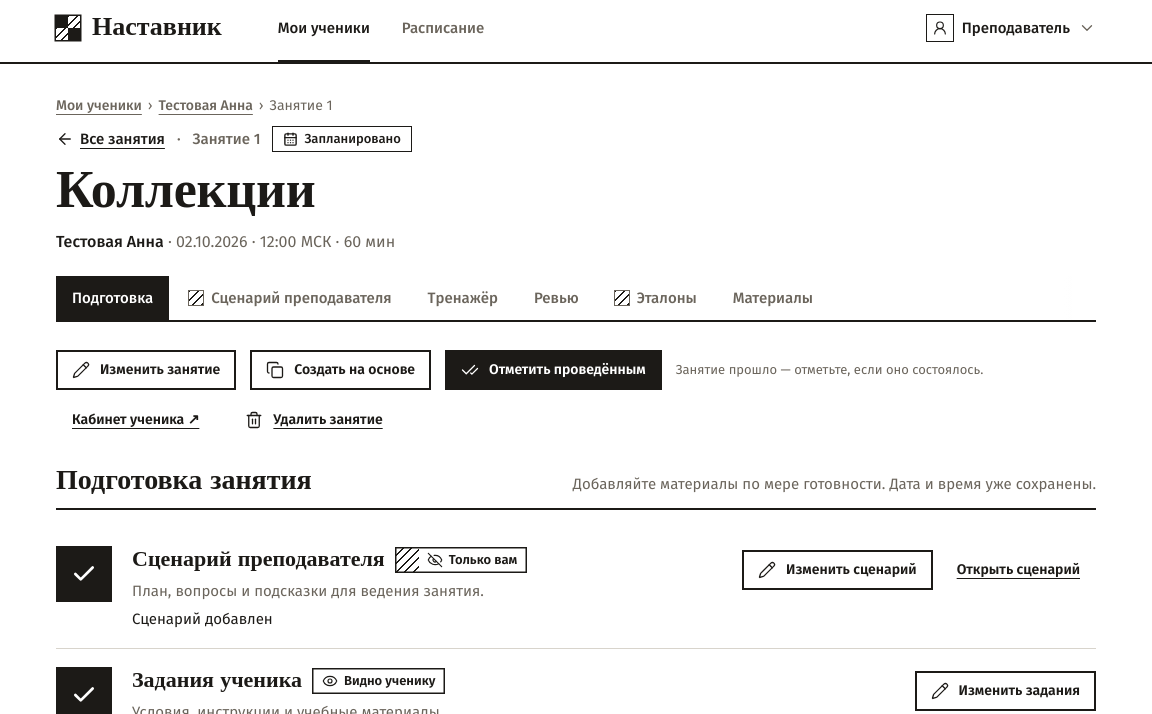
Scenario: Lesson creation and preparation › metadata form excludes all lesson texts and uses the metadata revision
Click the button "Изменить занятие" at point(146, 370), box [56,350,236,390]
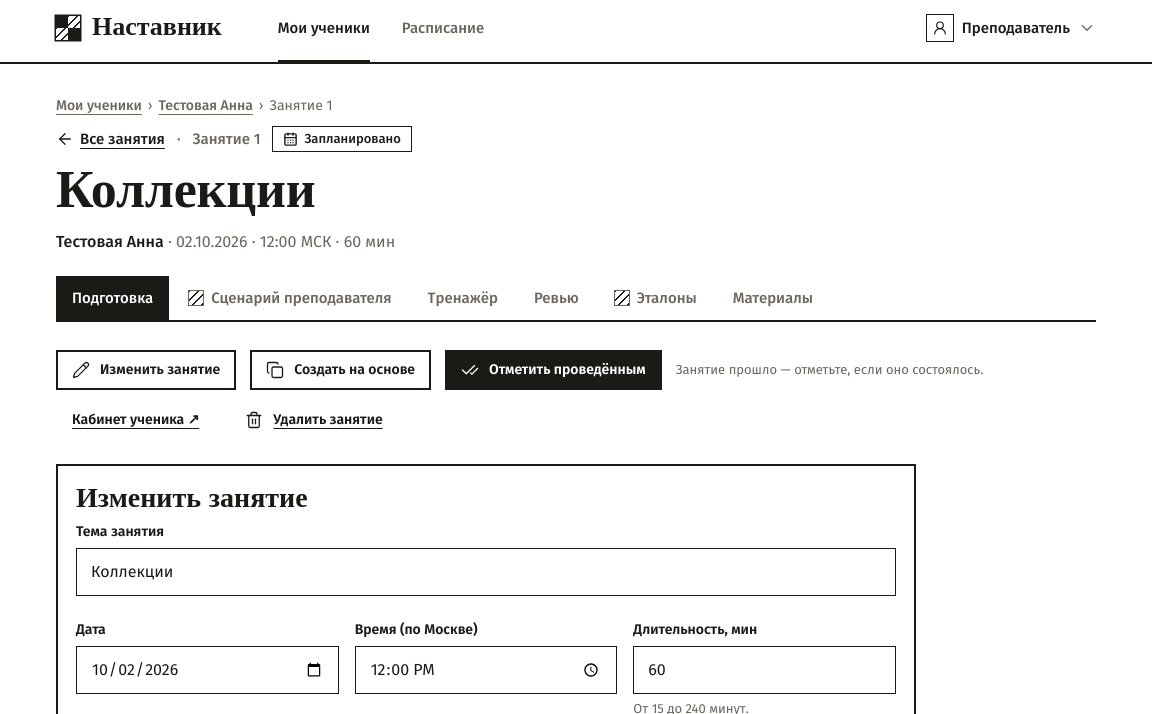
Replace the text in the time field labelled "Время (по Москве)" with "14:30" at point(486, 670), box [355,646,617,694]
(page scrolled)
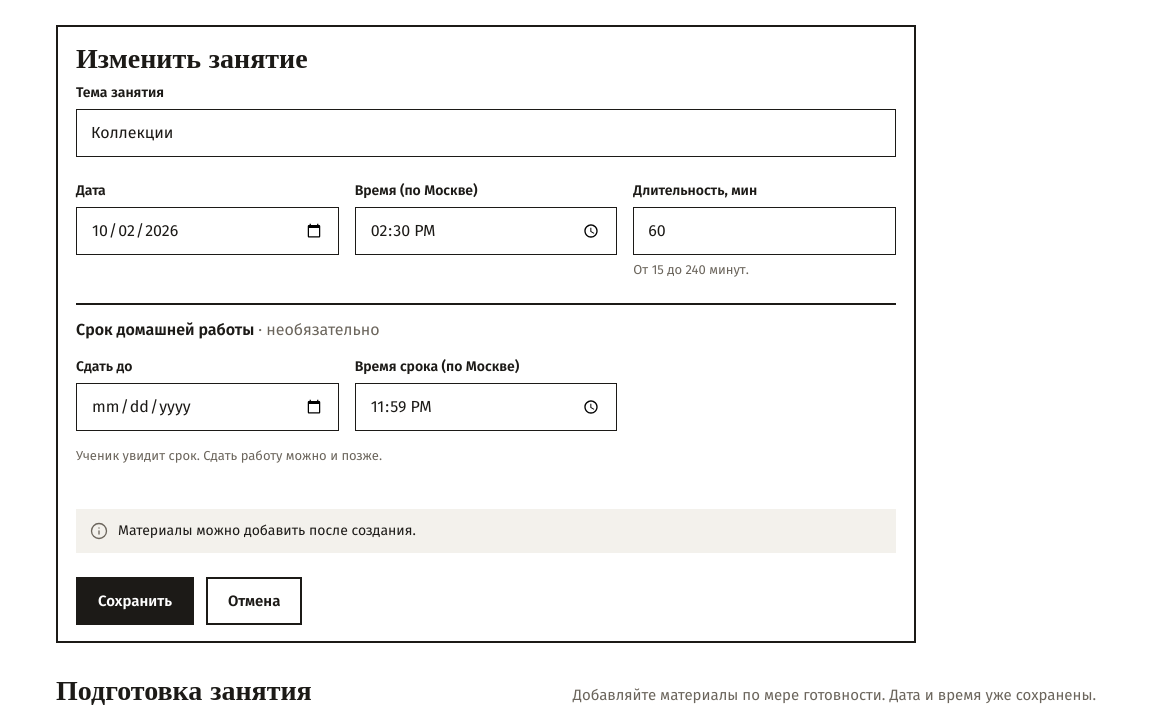
Submit the form, box [76,83,896,625]
(page scrolled)
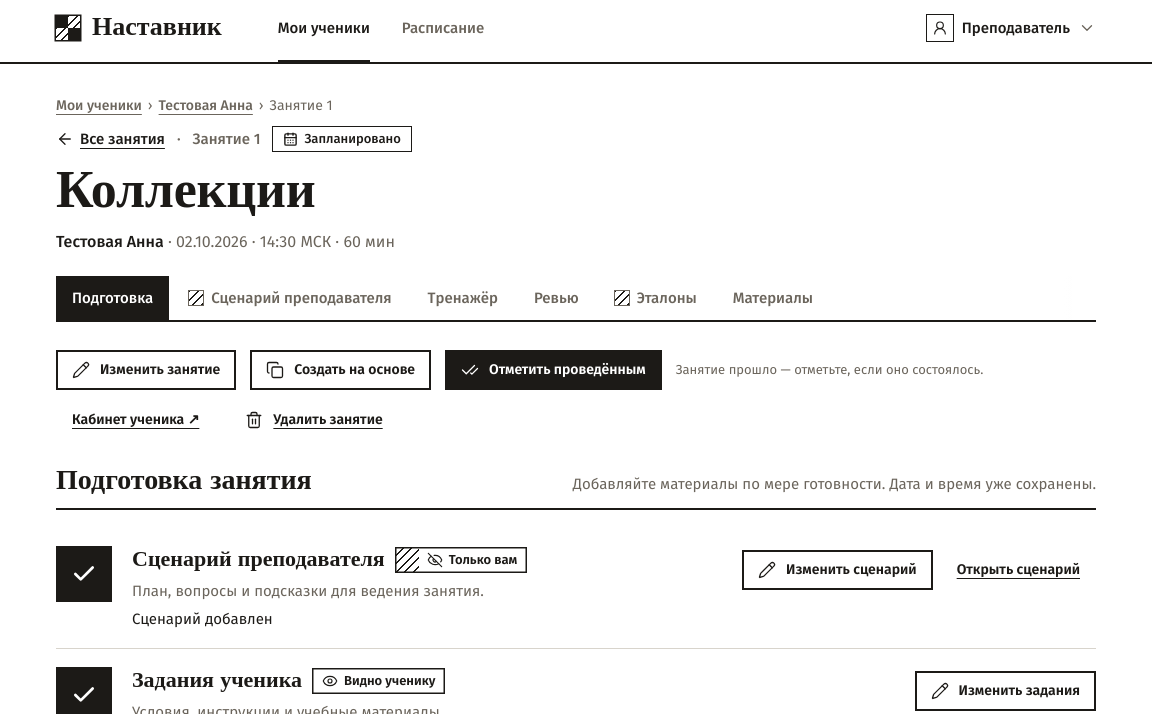
Now the element with class "meta" shows "14:30", box [176,232,395,251]
